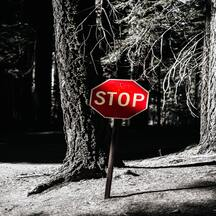Circle: (89, 77, 149, 119)
